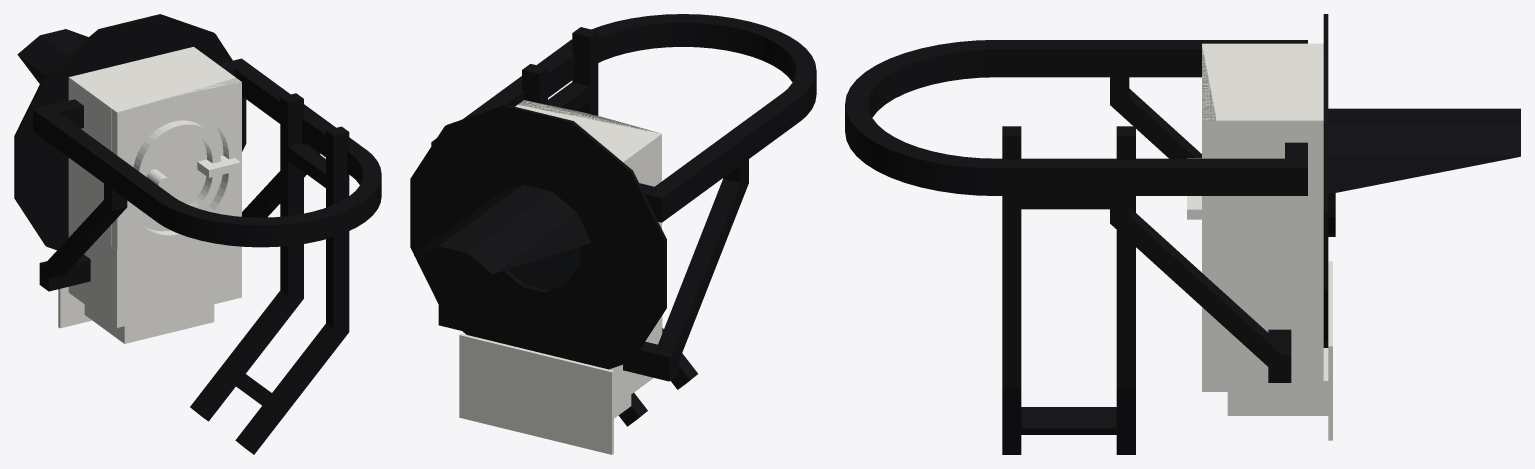
The model's file is 1chamber_left.obj.
The picture shows the model from 3 angles, left to right: view 1: azimuth 30°, elevation 25°; view 2: azimuth 150°, elevation 25°; view 3: azimuth 270°, elevation 25°; orthographic projection. The views are drawn at different scales.
Visible parts, largest first — view 1: signal_head, railing, signal_plate, ladder_top, ladder_middle, signal_id; view 2: signal_plate, railing, signal_id, signal_head, ladder_top, white, ladder_middle; view 3: railing, signal_head, signal_plate, ladder_top, ladder_middle, signal_id.
Boxes of the visible parts, <box> form: signal_head: <box>68,46,241,343</box>; railing: <box>33,58,381,291</box>; signal_plate: <box>14,14,246,250</box>; ladder_top: <box>280,93,349,334</box>; ladder_middle: <box>190,290,348,454</box>; signal_id: <box>58,287,91,328</box>; signal_plate: <box>410,104,666,369</box>; railing: <box>431,14,816,381</box>; signal_id: <box>459,333,613,454</box>; signal_head: <box>515,100,662,418</box>; ladder_top: <box>522,27,598,115</box>; white: <box>508,247,577,289</box>; ladder_middle: <box>618,328,697,426</box>; railing: <box>845,40,1307,382</box>; signal_head: <box>1187,43,1328,415</box>; signal_plate: <box>1323,14,1520,347</box>; ladder_top: <box>1002,126,1135,387</box>; ladder_middle: <box>1002,388,1135,454</box>; signal_id: <box>1328,261,1332,440</box>.
Size of the model in its own units: 0.61 by 0.8544 by 1.23.
